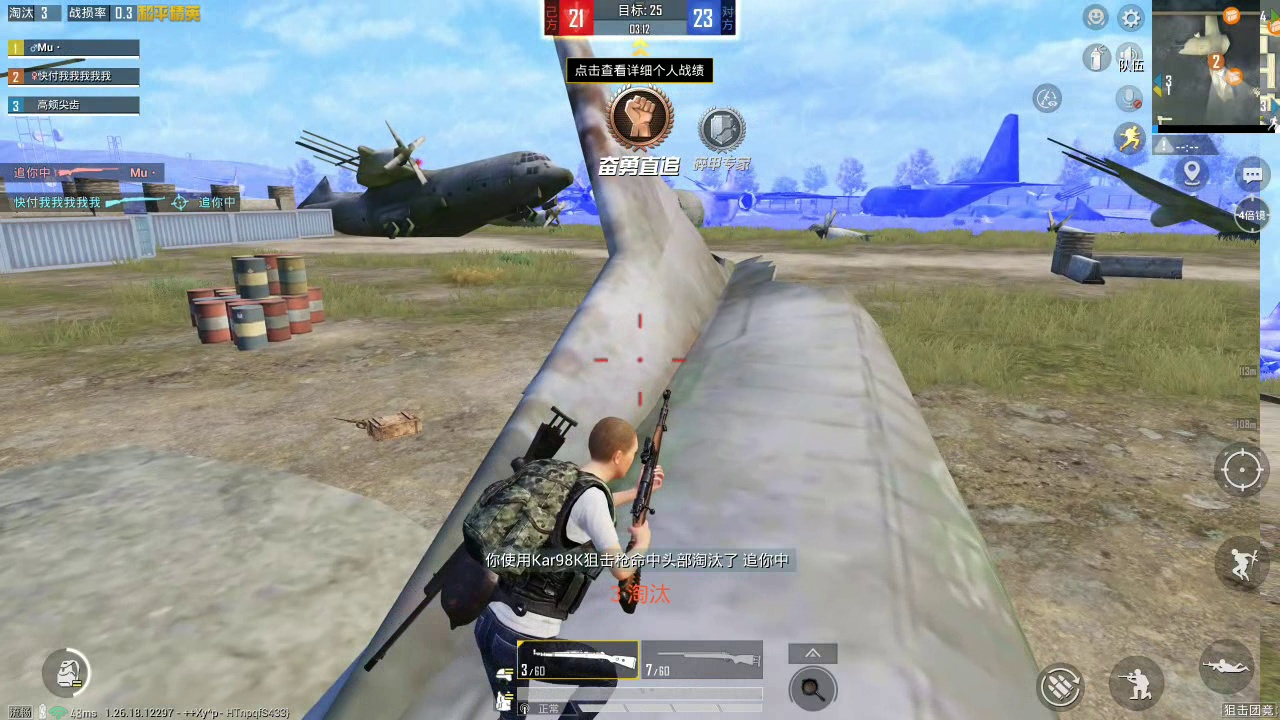enemy: (413, 156, 424, 170)
